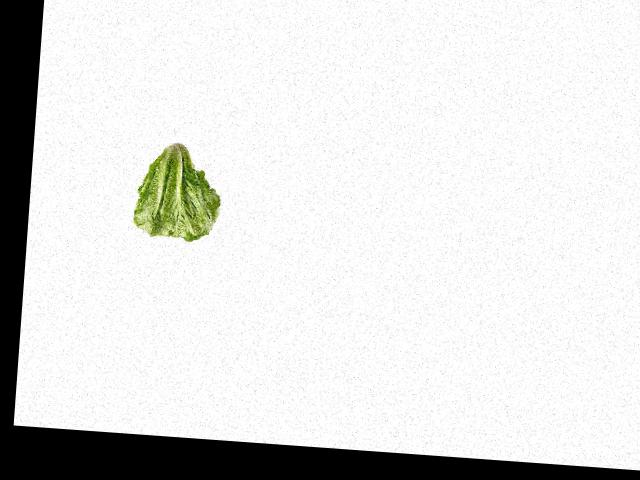lettuce: (135, 135, 228, 245)
